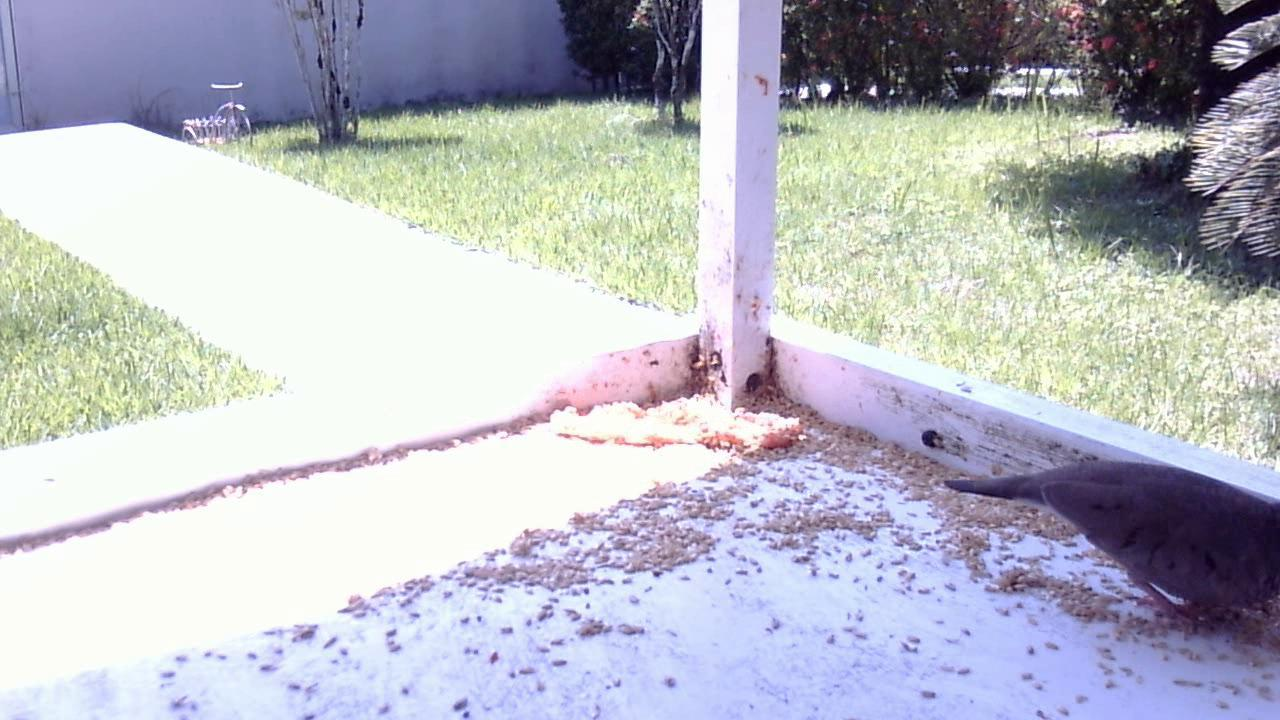rolinha: (923, 439, 1275, 641)
